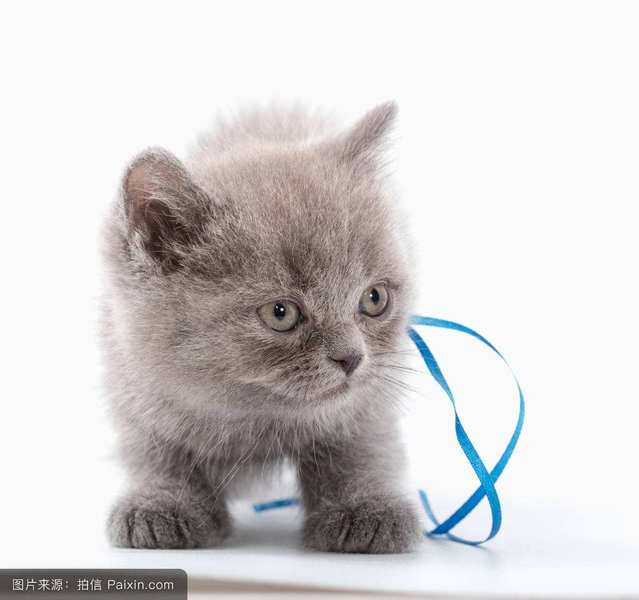cat: (91, 81, 442, 440)
